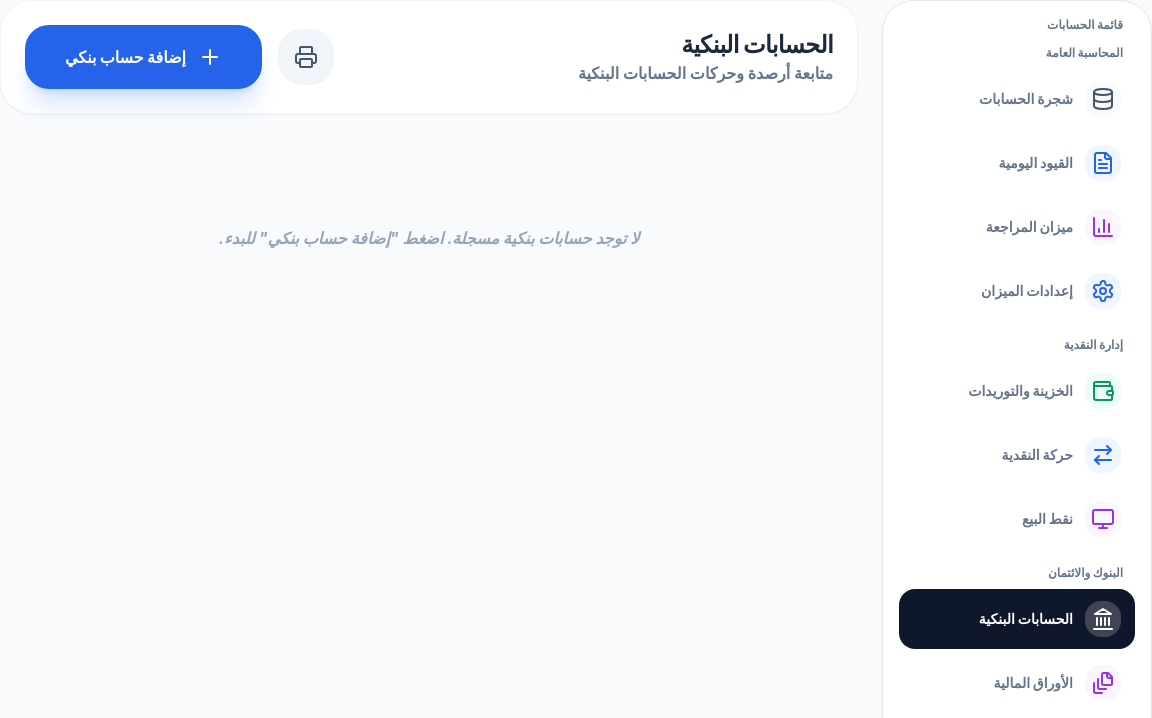
Test: opens bank maintenance as a named, labelled finance dialog
What coordinates should you click on to do the following:
click the button "إضافة حساب بنكي"
I would click on:
 (144, 57)
Its box is [25, 25, 262, 89].
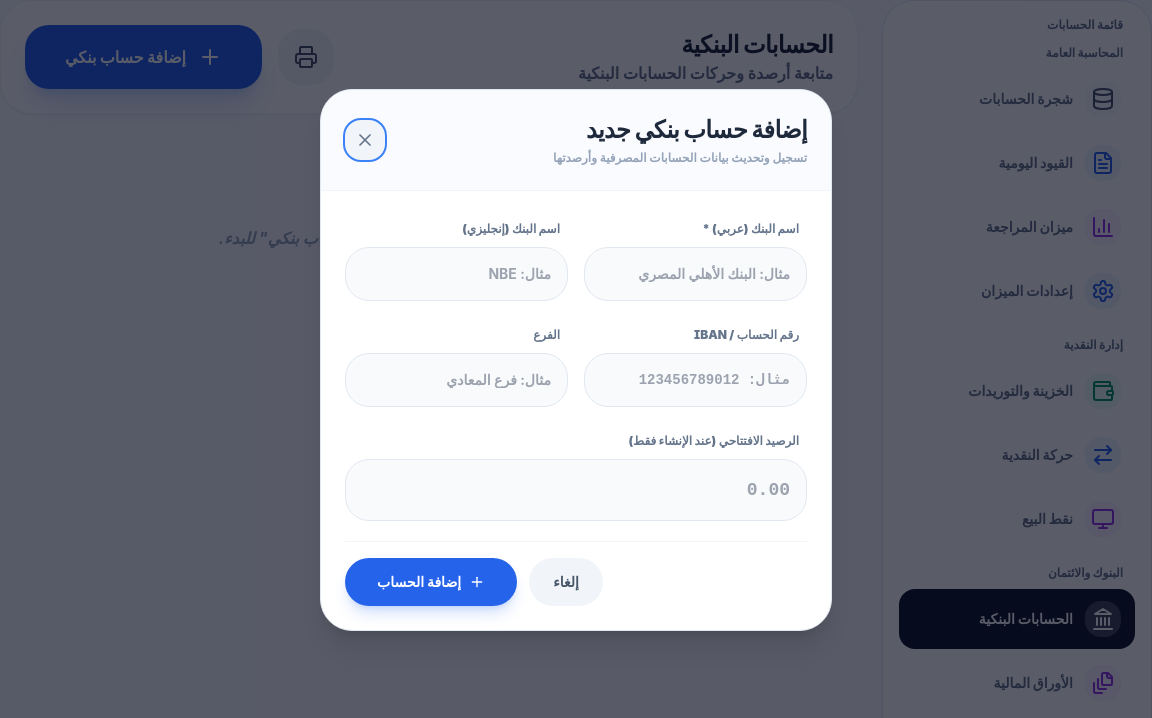
Check: the dialog "إضافة حساب بنكي جديد" is shown, box [320, 89, 832, 631]
Check: the field labelled "اسم البنك (إنجليزي)" is shown, box [345, 247, 568, 301]
Check: the field labelled "رقم الحساب / IBAN" is shown, box [584, 353, 807, 407]
